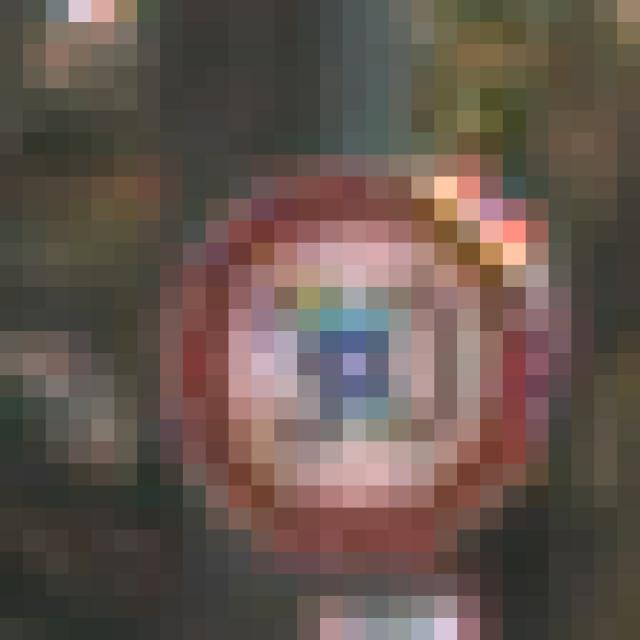Speed Limit -30-: (126, 99, 514, 519)
